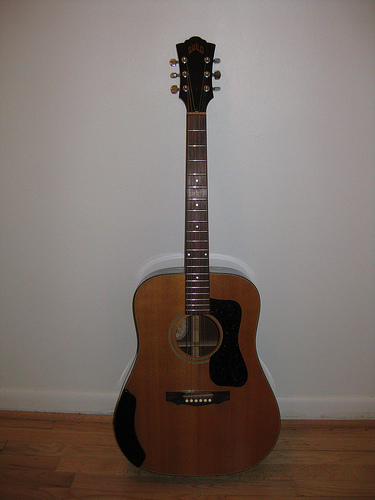guitar: (110, 31, 284, 479)
